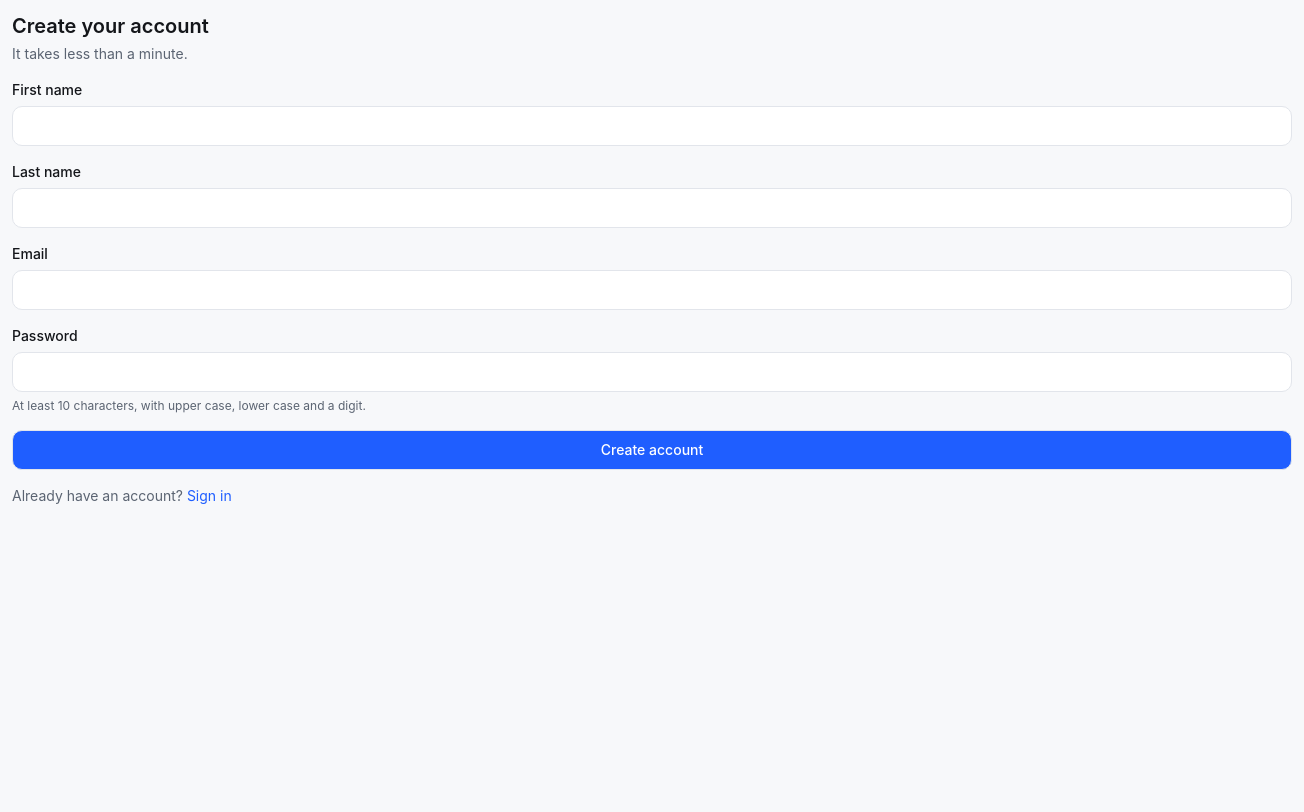
it: RegisterPage › requires the profile fields before posting
Step 1. Click the button "Create account" → (652, 450), box [12,430,1292,470]
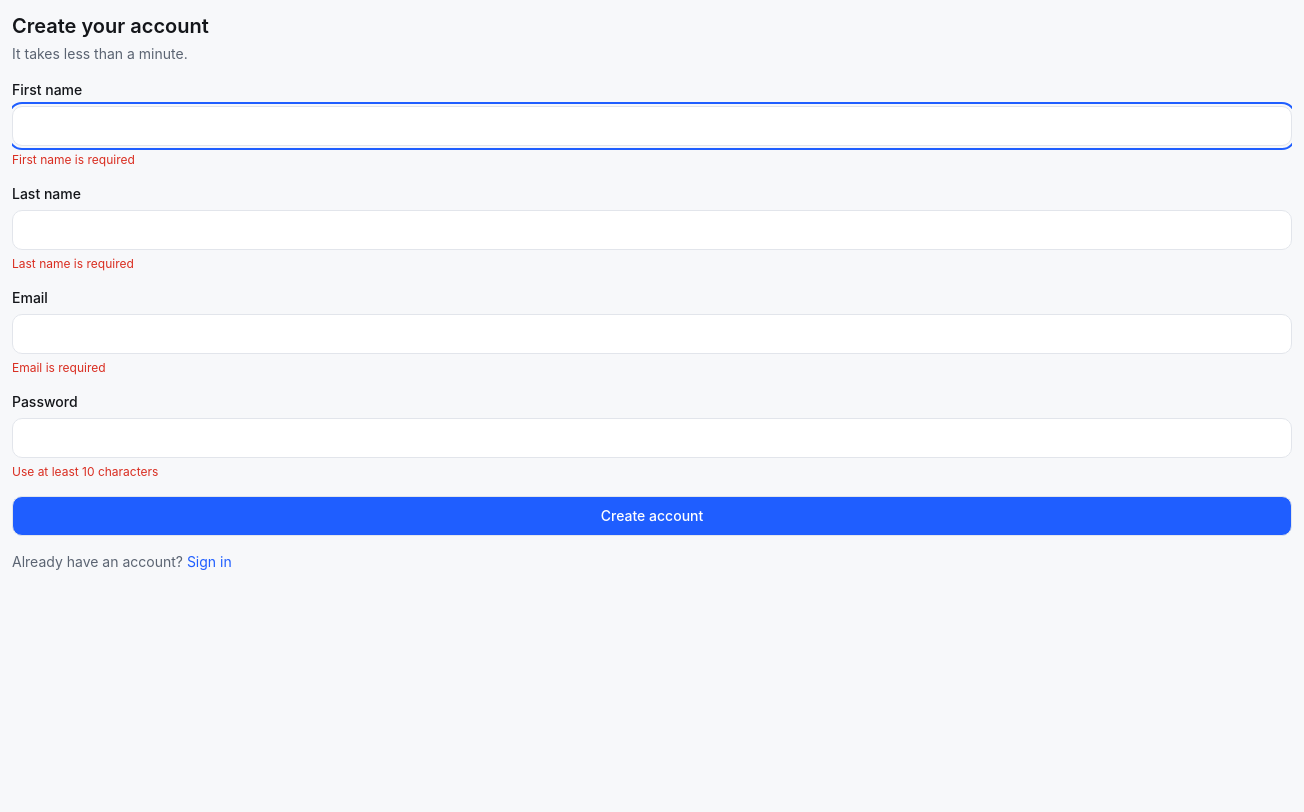
Now the text "First name is required" is shown, box [12,152,135,167]
Now the text "Last name is required" is shown, box [12,256,134,271]
